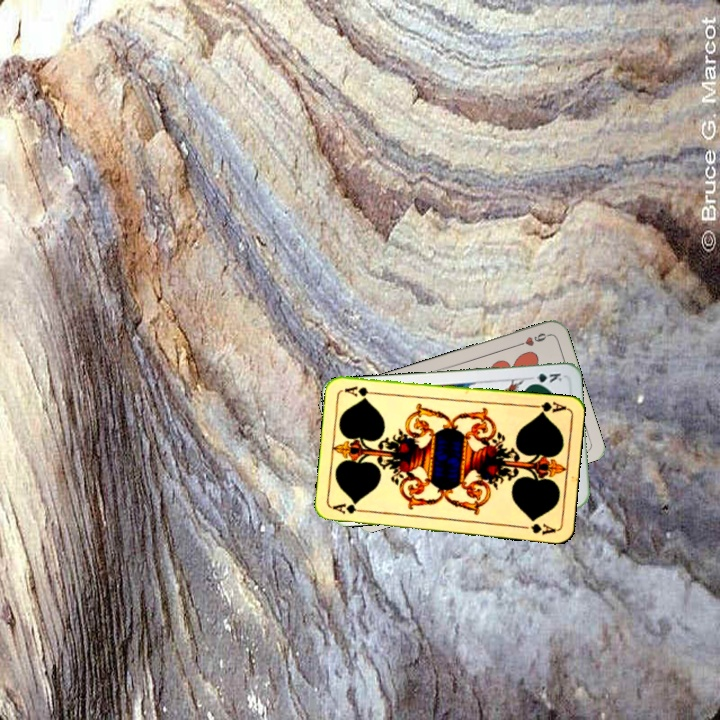GA: (528, 398, 568, 417), (329, 500, 370, 517)
GK: (525, 369, 564, 387)
H9: (513, 329, 552, 349)
